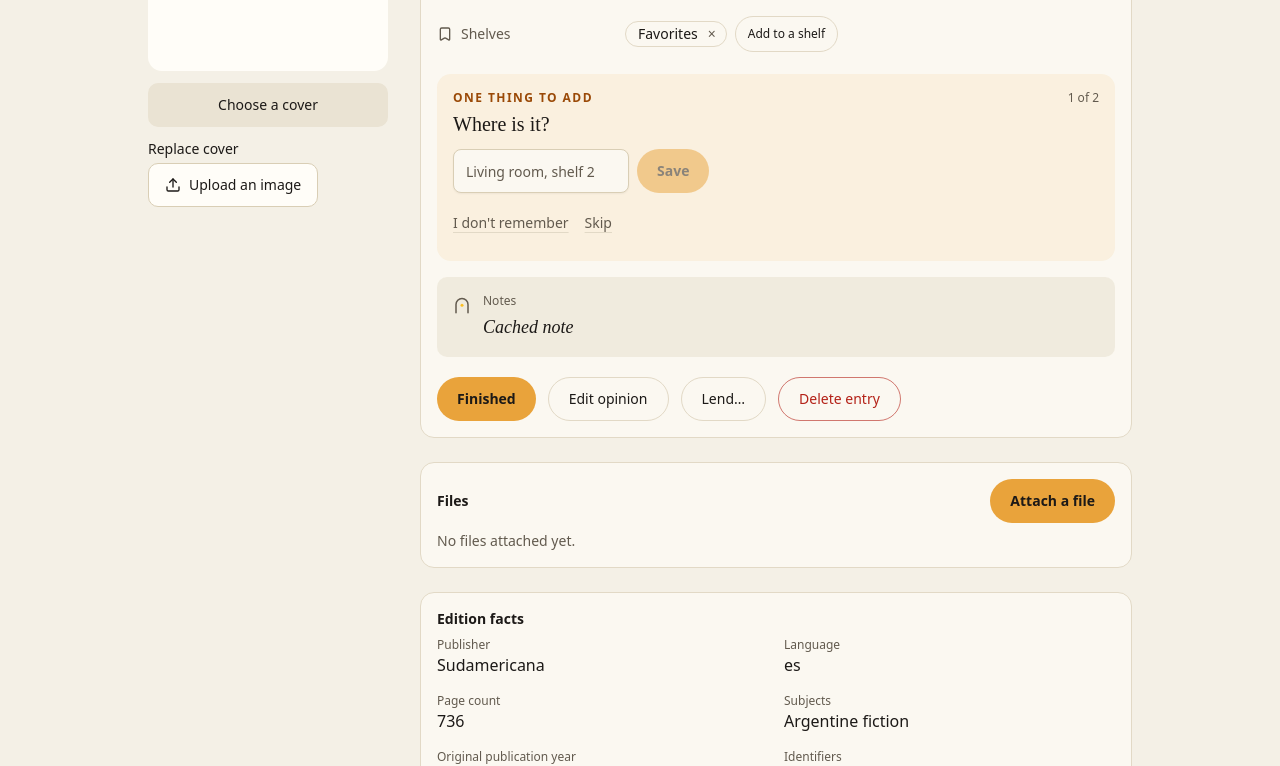
Scenario: DetailPage › the score over time, and Still an 8? (Sprint 115) › finishing a scored entry asks whether the score holds, and keeping it says so
(page scrolled)
Click the button "Edit opinion" at (608, 399), box [548,377,668,421]
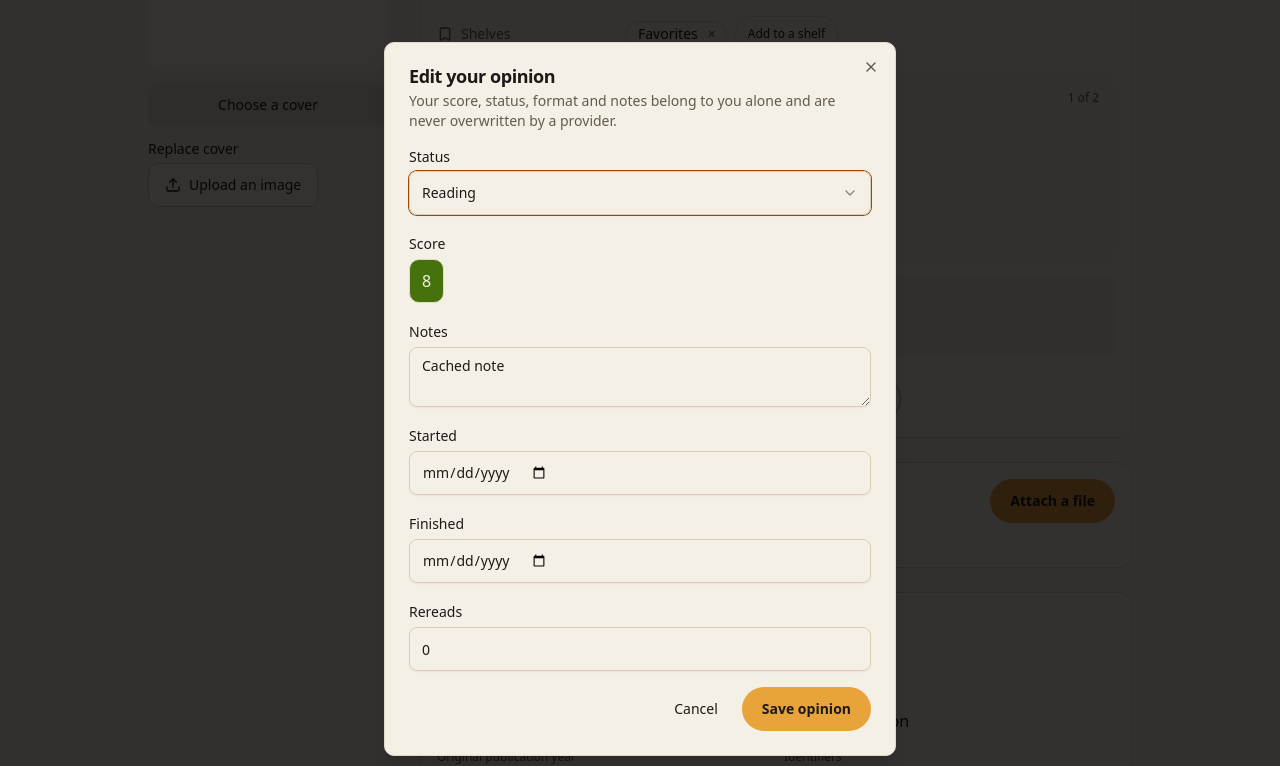
Click the dropdown named "Status" at (449, 192), box [409,171,871,215]
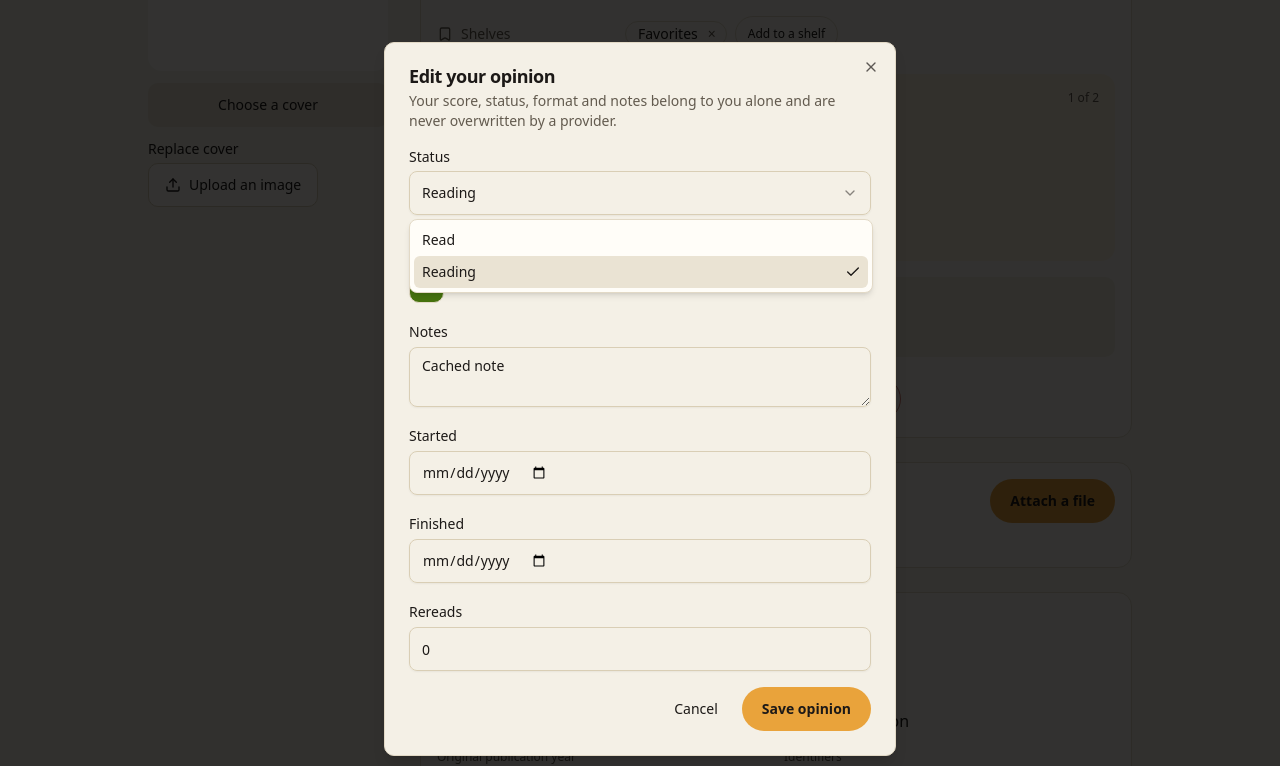
Click the option "Read" at (439, 240), box [422,230,455,249]
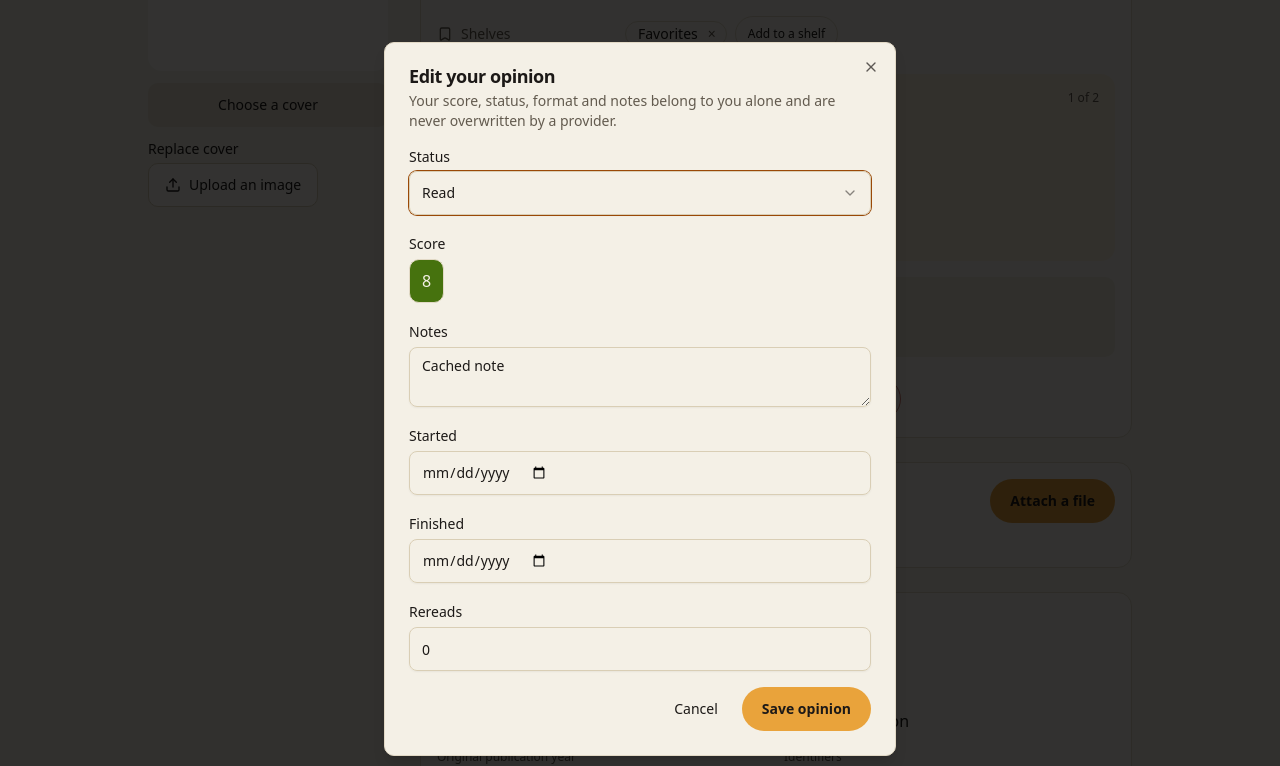
Click the button "Save opinion" at (806, 709), box [742,687,871,731]
(page scrolled)
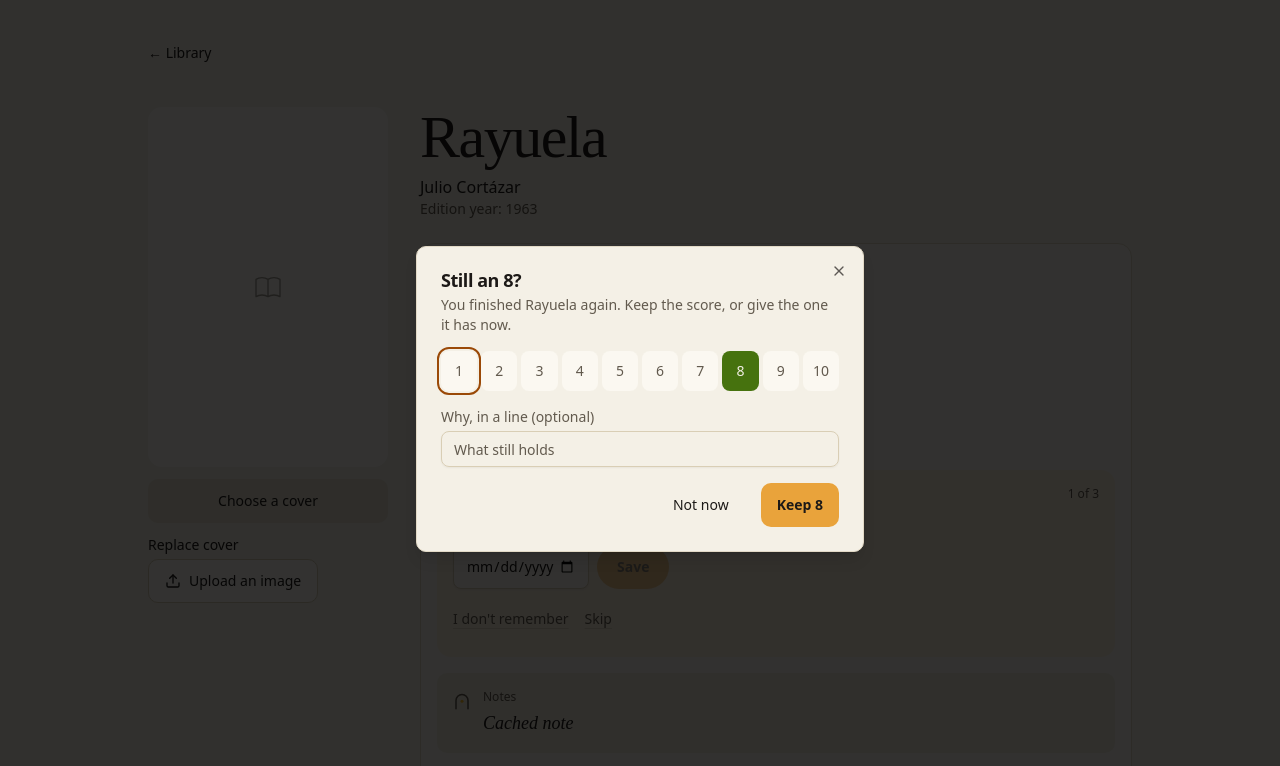
Click the button "Keep 8" at (800, 505), box [761,483,839,527]
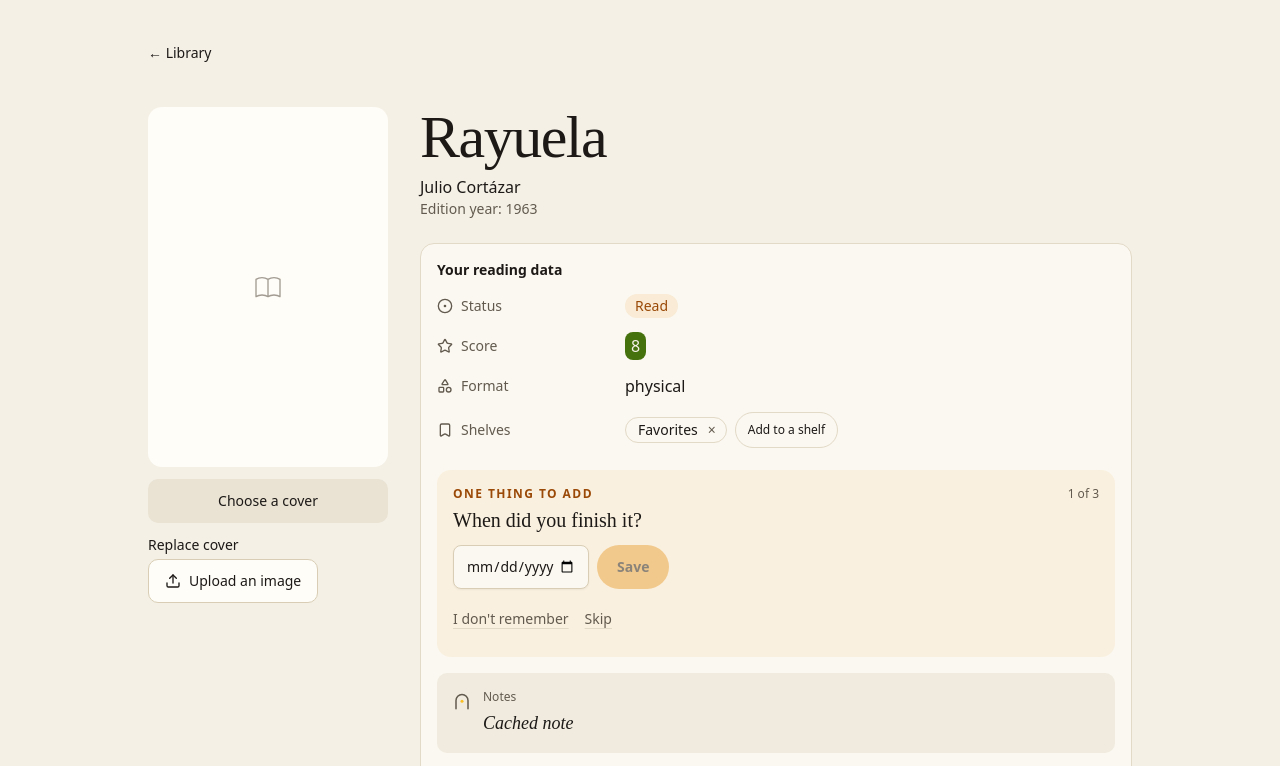
Result: the dialog is gone
